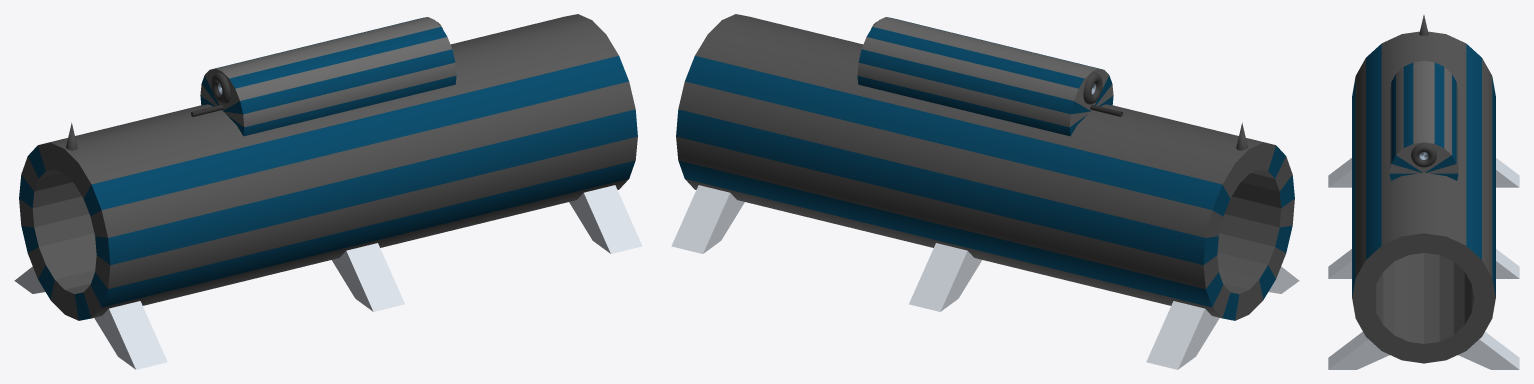
File: item_device_1.fbx
The picture shows the model from 3 angles, left to right: view 1: azimuth 30°, elevation 25°; view 2: azimuth 150°, elevation 25°; view 3: azimuth 270°, elevation 25°; orthographic projection. The views are drawn at different scales.
Visible parts, largest first — view 1: pCylinder1, pCylinder2, pCube2, pCube3, pCube4; view 2: pCylinder1, pCylinder2, pCube1, pCube6, pCube5; view 3: pCylinder1, pCylinder2, pCube4, pCube5, pCube3, pCube6, pCube1, pCube2, pTorus2.
Part boxes in pixels (x1,y1,x2,y2): pCylinder1: (19,14,637,320); pCylinder2: (200,17,456,136); pCube2: (332,243,404,311); pCube3: (94,301,167,369); pCube4: (569,185,642,253); pCylinder1: (676,14,1294,320); pCylinder2: (857,17,1113,136); pCube1: (909,243,981,311); pCube6: (1146,301,1219,369); pCube5: (671,185,744,253); pCylinder1: (1352,31,1495,363); pCylinder2: (1389,61,1458,180); pCube4: (1328,331,1389,369); pCube5: (1458,331,1519,369); pCube3: (1328,158,1351,187); pCube6: (1496,158,1519,187); pCube1: (1496,249,1519,278); pCube2: (1328,249,1351,278); pTorus2: (1411,143,1436,167).
Bounding box in the file's own units: 100 × 39.45 × 40.
